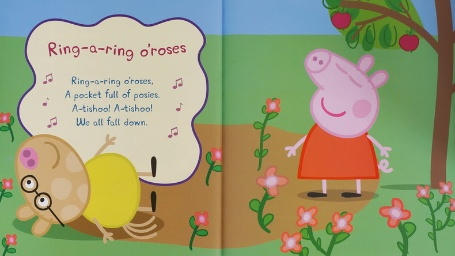Peppa: (284, 47, 397, 200)
